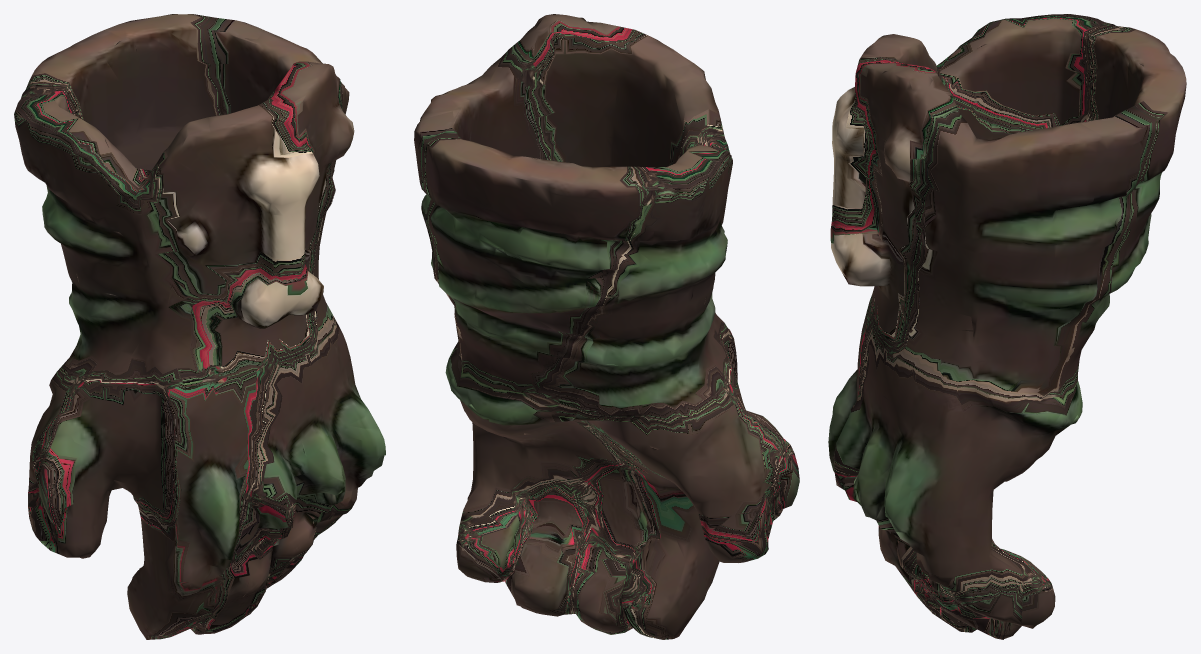
File: totem_glove_B.glb
3 renders of one model, left to right at view 1: azimuth 30°, elevation 25°; view 2: azimuth 150°, elevation 25°; view 3: azimuth 270°, elevation 25°, orthographic. The views are drawn at different scales.
Bounding box in the file's own units: 0.1887 × 0.3247 × 0.1767.
1 material, 1 textured.
